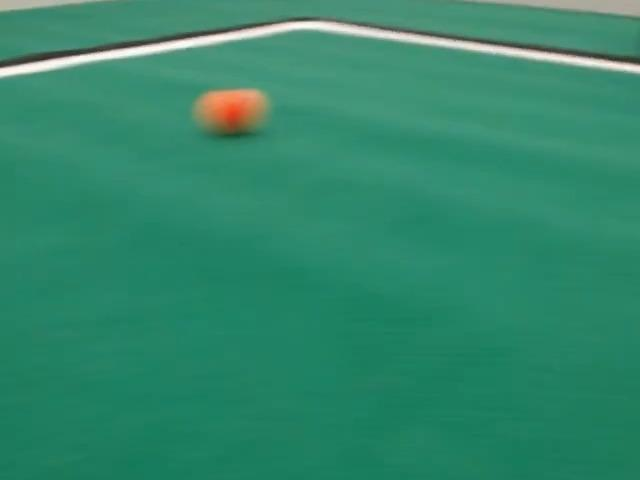Ball: (194, 89, 269, 134)
